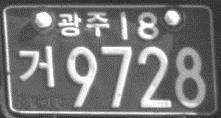1: (118, 9, 130, 43)
2: (136, 45, 173, 111)
7: (99, 45, 134, 109)
8: (173, 46, 206, 109), (136, 11, 161, 41)
9: (65, 44, 98, 107)
거: (17, 45, 55, 89)
광주_O: (57, 9, 109, 37)
